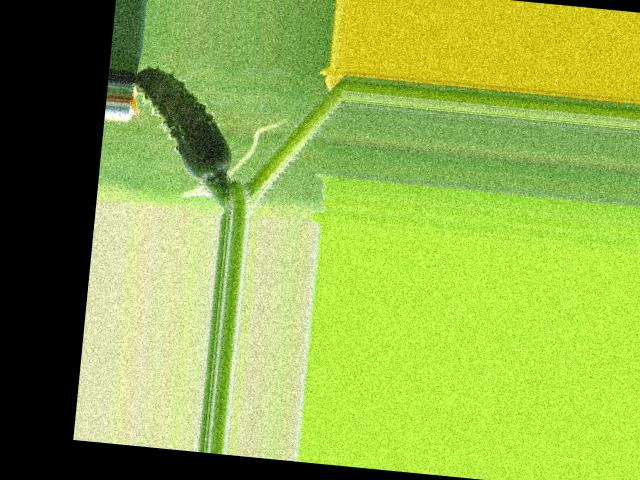cucumber: (126, 65, 241, 181)
